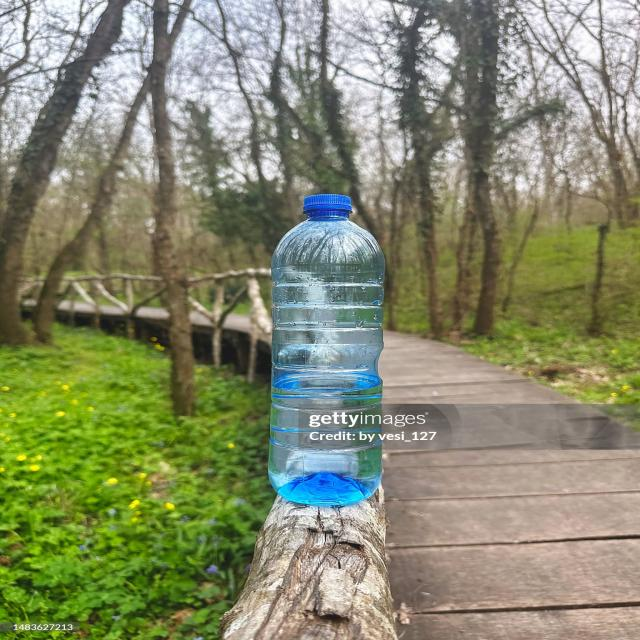bottle: (266, 190, 387, 507)
